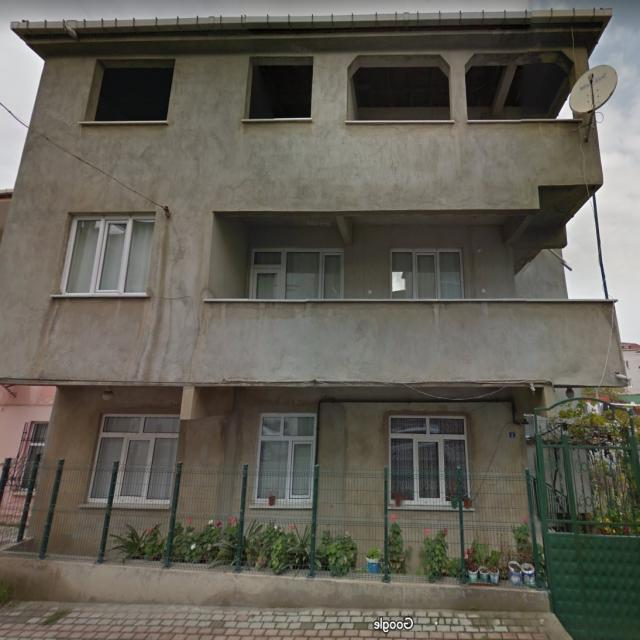Building: (1, 8, 625, 609)
